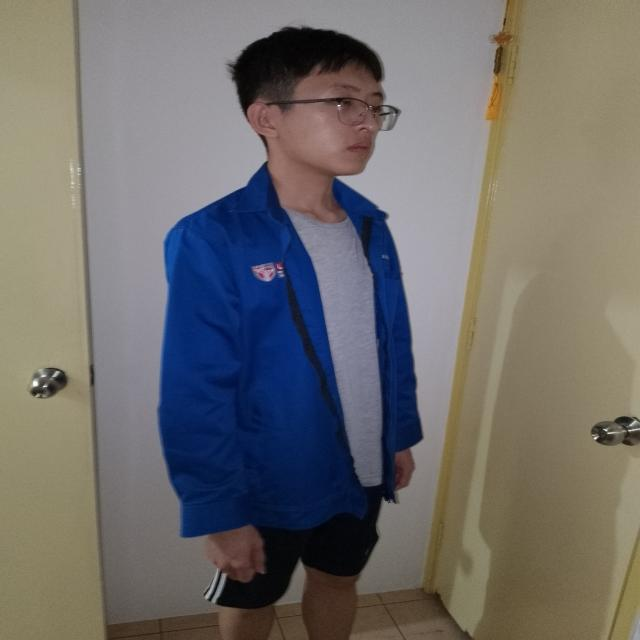person_with_labcoat: (158, 27, 422, 640)
